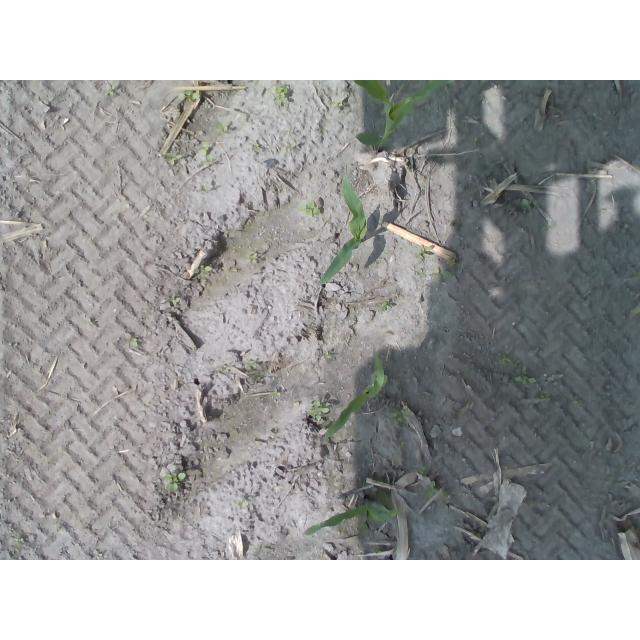Maize: (353, 80, 454, 160), (322, 350, 389, 442), (317, 175, 369, 285), (303, 499, 399, 538)
Weeds: (309, 400, 331, 423), (438, 263, 464, 281), (166, 471, 186, 491), (303, 199, 321, 217), (273, 83, 291, 100), (180, 90, 201, 103), (390, 409, 406, 425), (514, 375, 537, 386), (104, 80, 118, 96), (512, 196, 529, 209), (427, 480, 439, 497), (167, 152, 182, 165), (417, 247, 431, 260), (497, 356, 512, 367), (246, 252, 259, 264), (201, 144, 210, 158), (537, 392, 552, 400), (200, 264, 213, 272), (129, 338, 140, 347), (333, 99, 344, 107), (218, 122, 227, 131), (384, 303, 392, 312), (272, 389, 280, 398), (401, 440, 408, 449)
